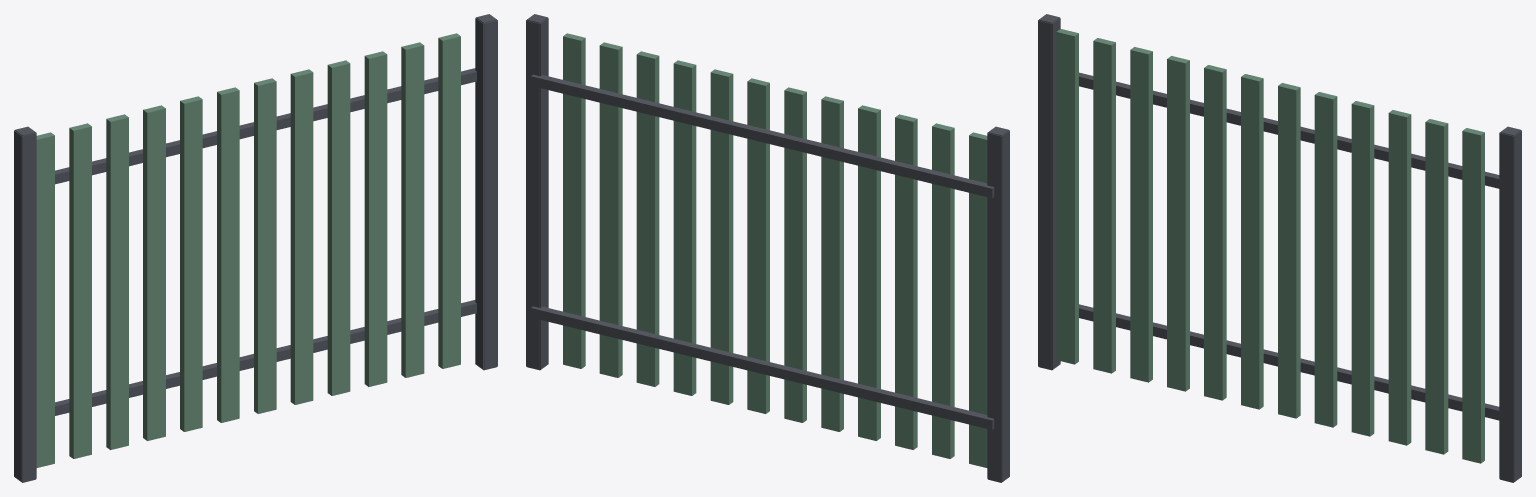
The model's file is fence_mid_profnastil.glb.
3 renders of one model, left to right at view 1: azimuth 30°, elevation 25°; view 2: azimuth 150°, elevation 25°; view 3: azimuth 330°, elevation 25°, orthographic.
Parts seen in each view (by area): view 1: ok_mesh; view 2: ok_mesh; view 3: ok_mesh.
Part boxes in pixels (box(x1,y1,x2,y2)): ok_mesh: box(14, 14, 497, 482); ok_mesh: box(526, 14, 1009, 482); ok_mesh: box(1038, 14, 1521, 482).
Size of what is drawn, in the model's own units: 2.58 by 1.8 by 0.1.
